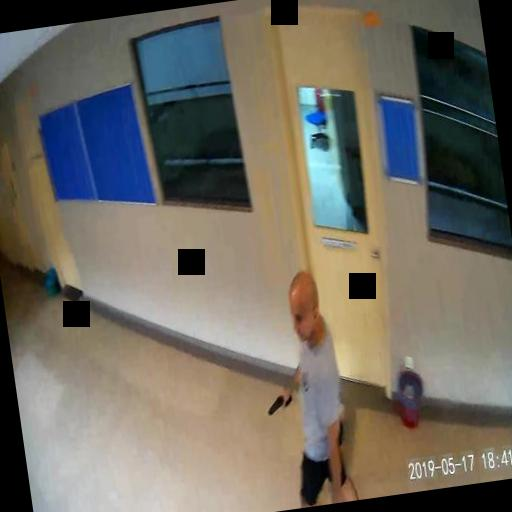Handgun: (263, 388, 293, 414)
